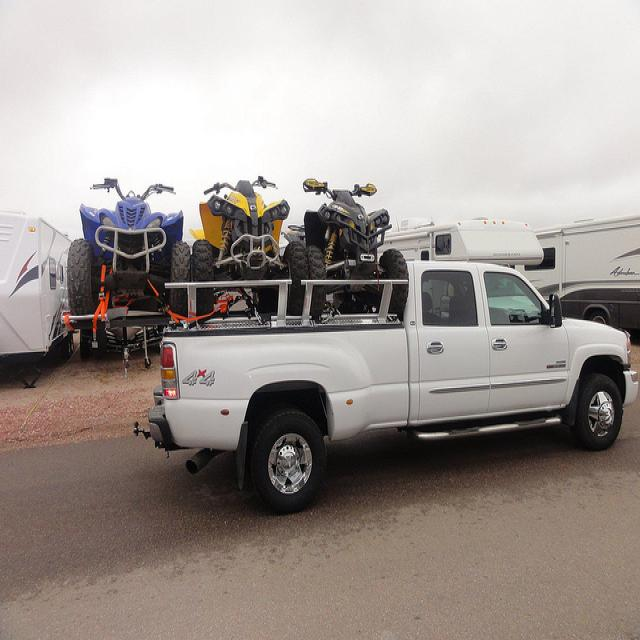motor: (189, 175, 291, 282), (301, 179, 410, 279)
